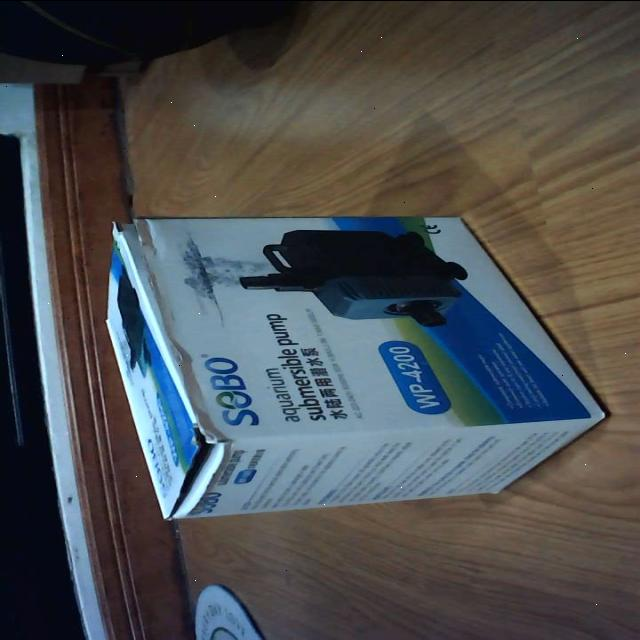SOBO_WP_4200: (95, 197, 613, 525)
